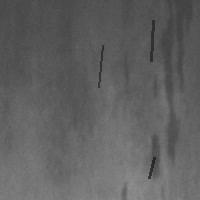inclusion: (160, 1, 190, 167), (144, 128, 164, 187), (120, 52, 133, 88), (96, 43, 104, 89), (149, 18, 155, 63), (147, 155, 156, 180)
